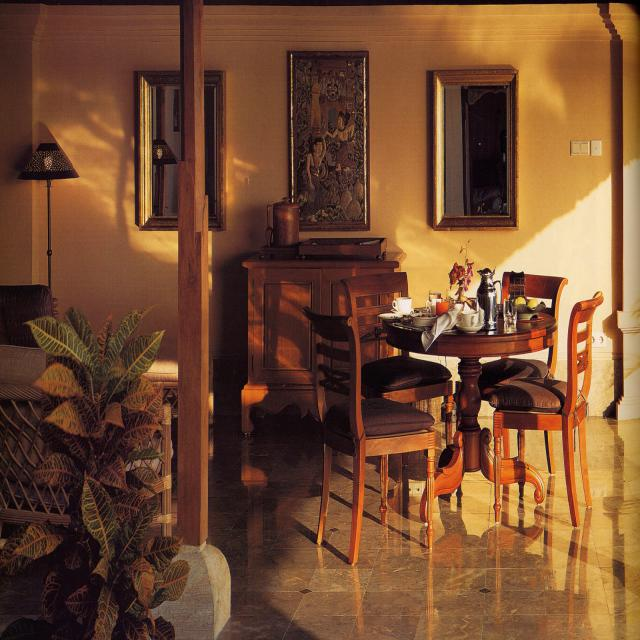chair -occluded-: (301, 304, 434, 561), (487, 287, 603, 528)
cup and saucer: (393, 296, 412, 313)
lamp crop: (17, 140, 77, 288)
mirror crop: (131, 70, 226, 231), (426, 70, 519, 232)
painting crop: (289, 48, 370, 239)
